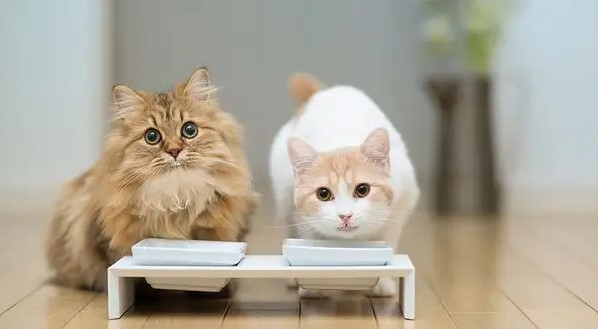cat: (42, 65, 262, 291), (270, 71, 421, 299)
